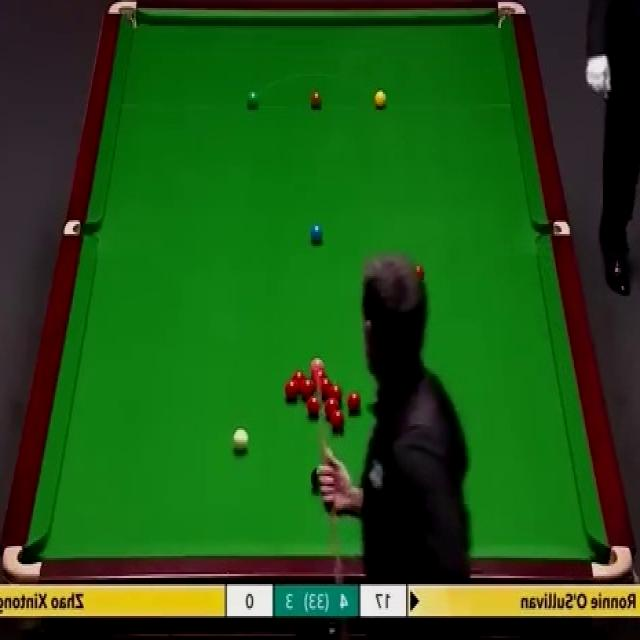pocket: (3, 542, 43, 580), (590, 546, 633, 579), (495, 0, 531, 34), (107, 0, 142, 32), (64, 220, 103, 235), (535, 220, 573, 235)
